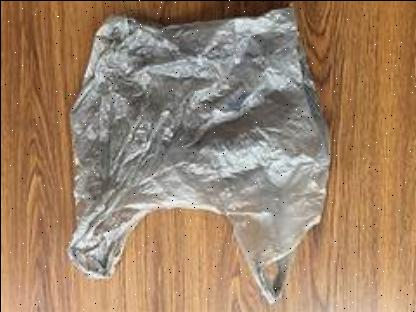Others: (67, 9, 328, 302)
